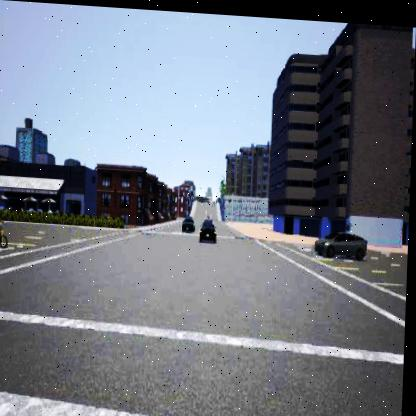bike: (0, 208, 12, 247)
vehicle: (316, 225, 368, 255), (201, 215, 218, 238), (181, 211, 197, 230)
